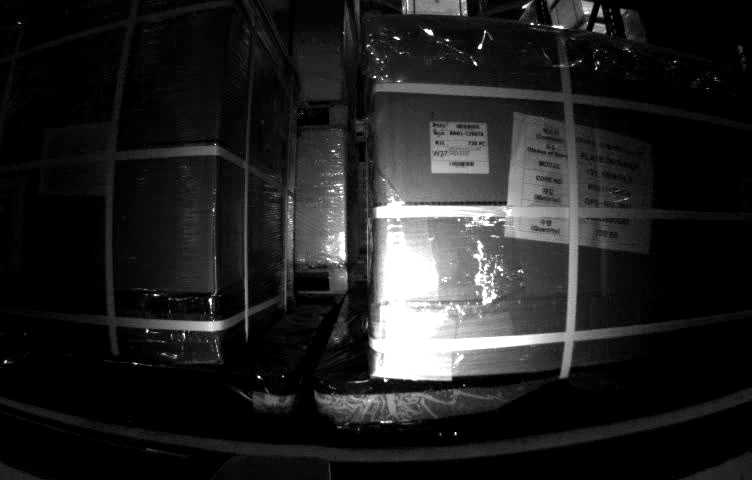True Barcode: (429, 120, 489, 173)
